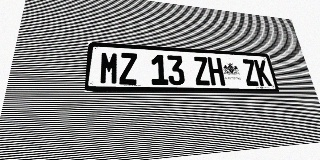1: (150, 54, 169, 85)
3: (167, 55, 185, 85)
H: (207, 57, 225, 86)
K: (254, 60, 272, 86)
M: (99, 51, 119, 85)
Z: (119, 52, 138, 85), (193, 56, 211, 85), (241, 59, 260, 86)
